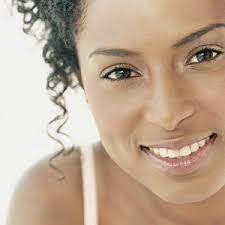s.black: (90, 93, 154, 157)
